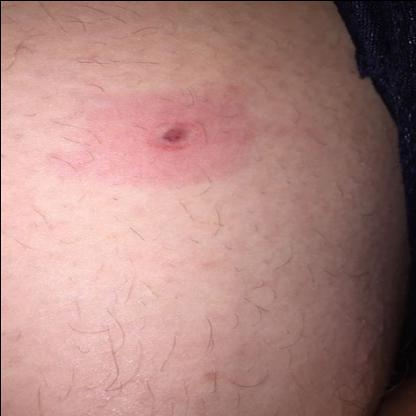Tick: (56, 82, 256, 198)
